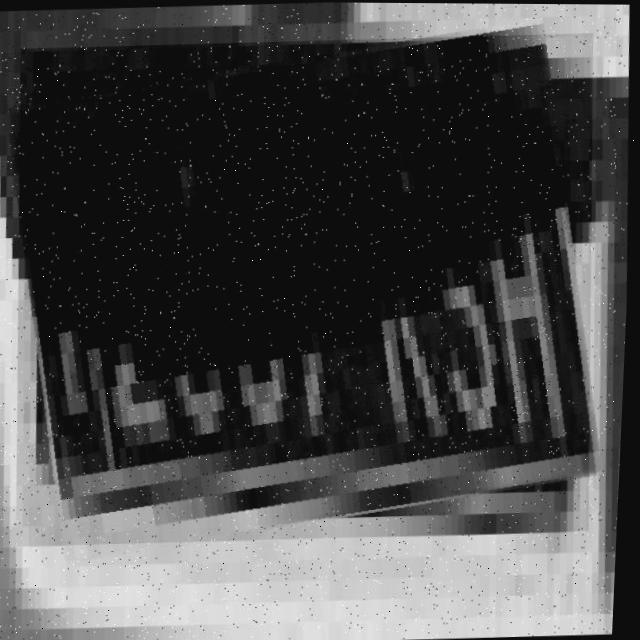LicensePlate: (3, 29, 611, 550)
